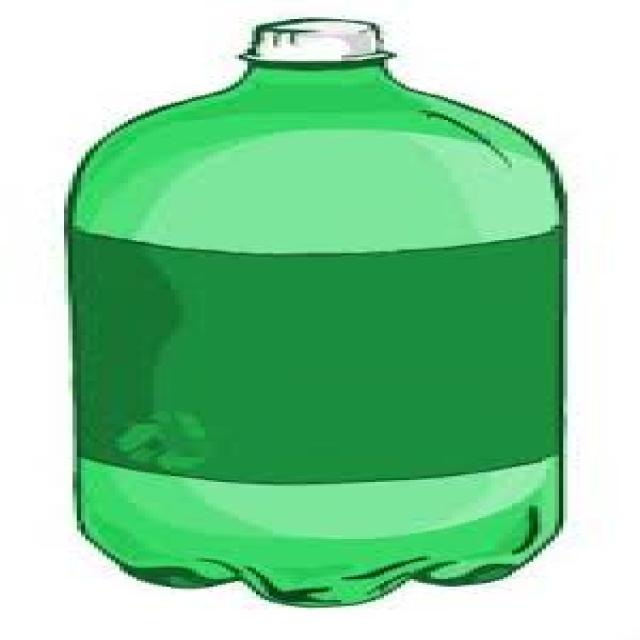bottom: (72, 508, 593, 612)
cap: (209, 9, 438, 86)
